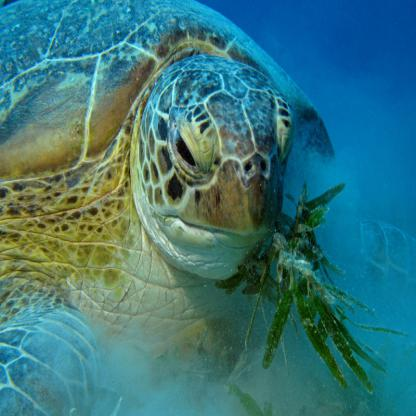turtle: (130, 46, 299, 290)
